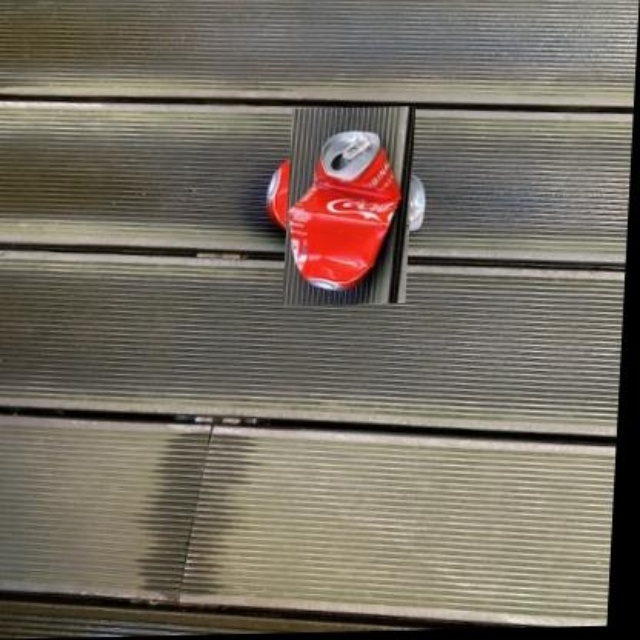trash: (266, 131, 400, 289)
